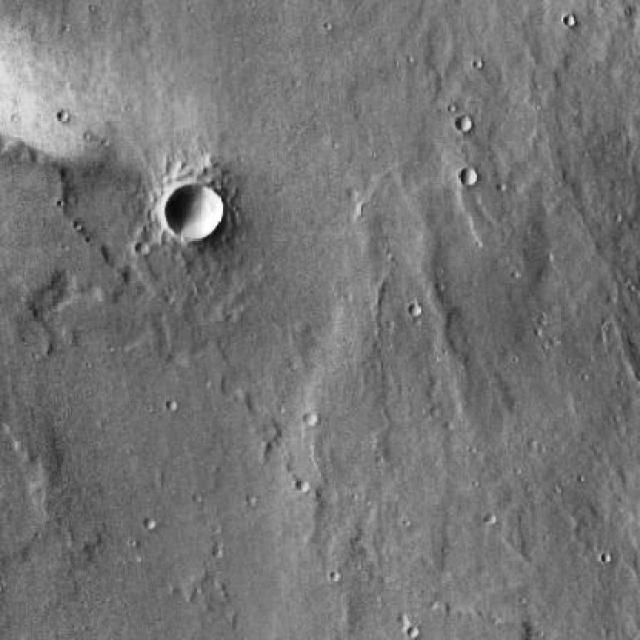crater: (165, 180, 223, 238), (458, 166, 479, 188), (456, 115, 475, 134)
